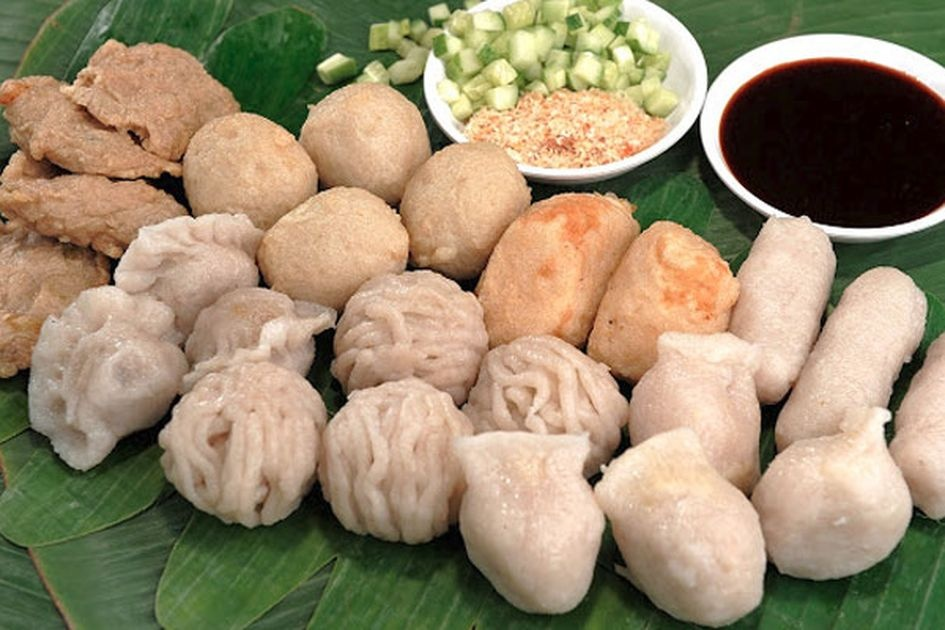pempek: (7, 4, 944, 604)
